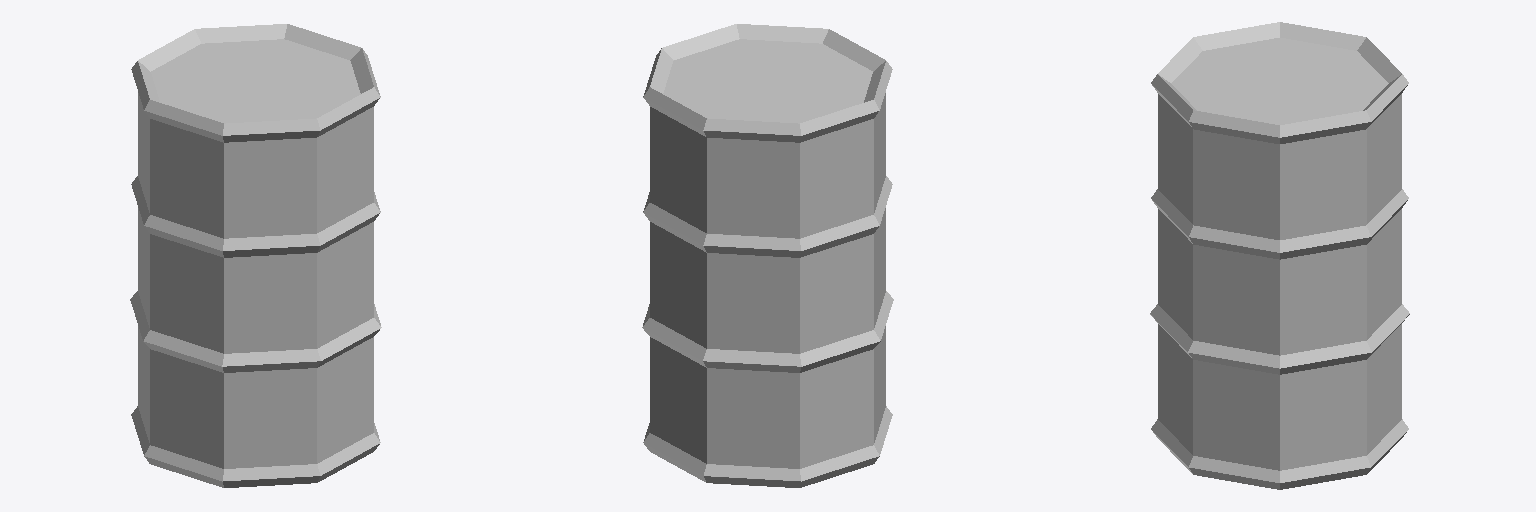
File: Barrel_Type1.obj
3 renders of one model, left to right at view 1: azimuth 30°, elevation 25°; view 2: azimuth 150°, elevation 25°; view 3: azimuth 270°, elevation 25°, orthographic.
Visible parts, largest first — view 1: Barrel_Type1_Cylinder.014; view 2: Barrel_Type1_Cylinder.014; view 3: Barrel_Type1_Cylinder.014.
Part boxes in pixels (x1,y1,x2,y2): Barrel_Type1_Cylinder.014: (130,24,381,487); Barrel_Type1_Cylinder.014: (642,24,893,487); Barrel_Type1_Cylinder.014: (1150,22,1409,489).
Size of the model in its own units: 0.6921 by 1.07 by 0.6921.